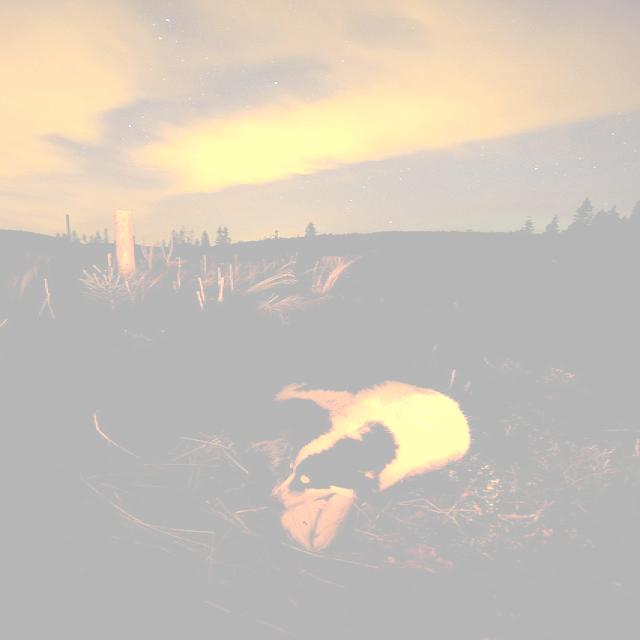Dog: (187, 314, 523, 598)
